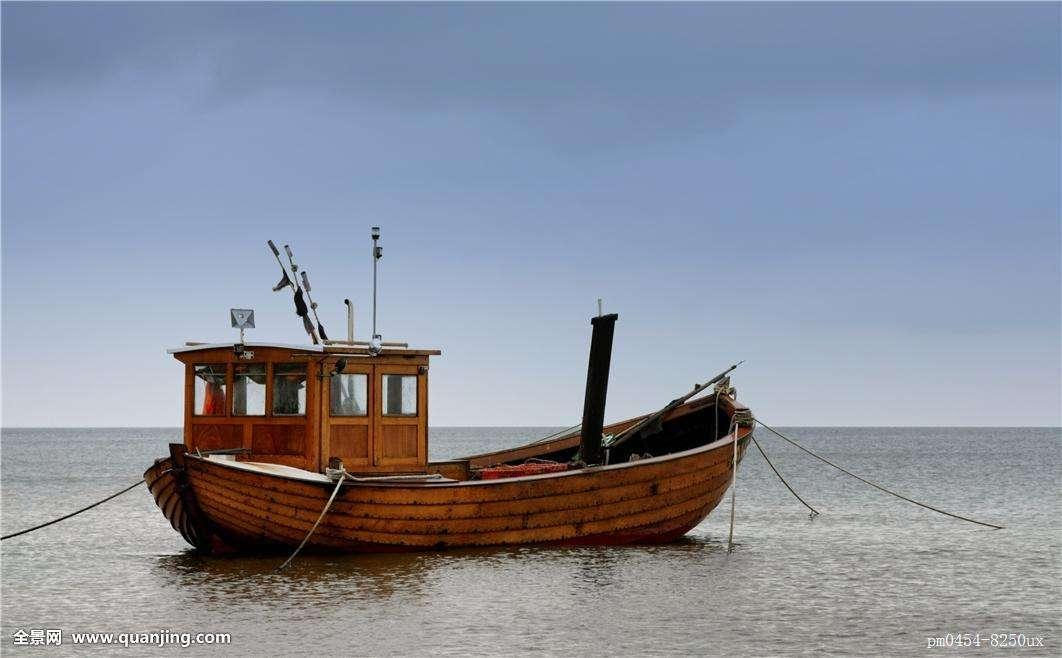otherboat: (132, 234, 774, 547)
